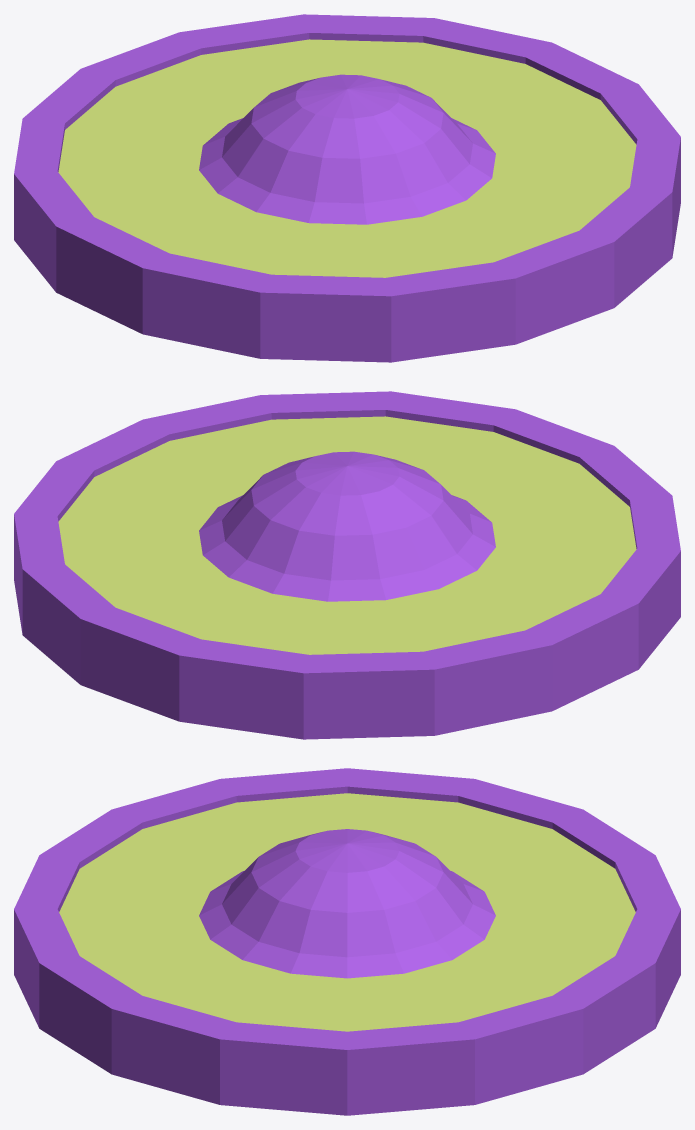
The model's file is Buckler.fbx.
3 views of the same model, one above another, from view 1: azimuth 30°, elevation 25°; view 2: azimuth 150°, elevation 25°; view 3: azimuth 270°, elevation 25° (orthographic).
Visible parts, largest first — view 1: Cylinder; view 2: Cylinder; view 3: Cylinder.
Boxes of the visible parts, x1,y1,x2,y2 form: Cylinder: (14,14,680,362); Cylinder: (14,391,680,739); Cylinder: (14,768,680,1115).
Size of the model in its own units: 230 by 230 by 50.
